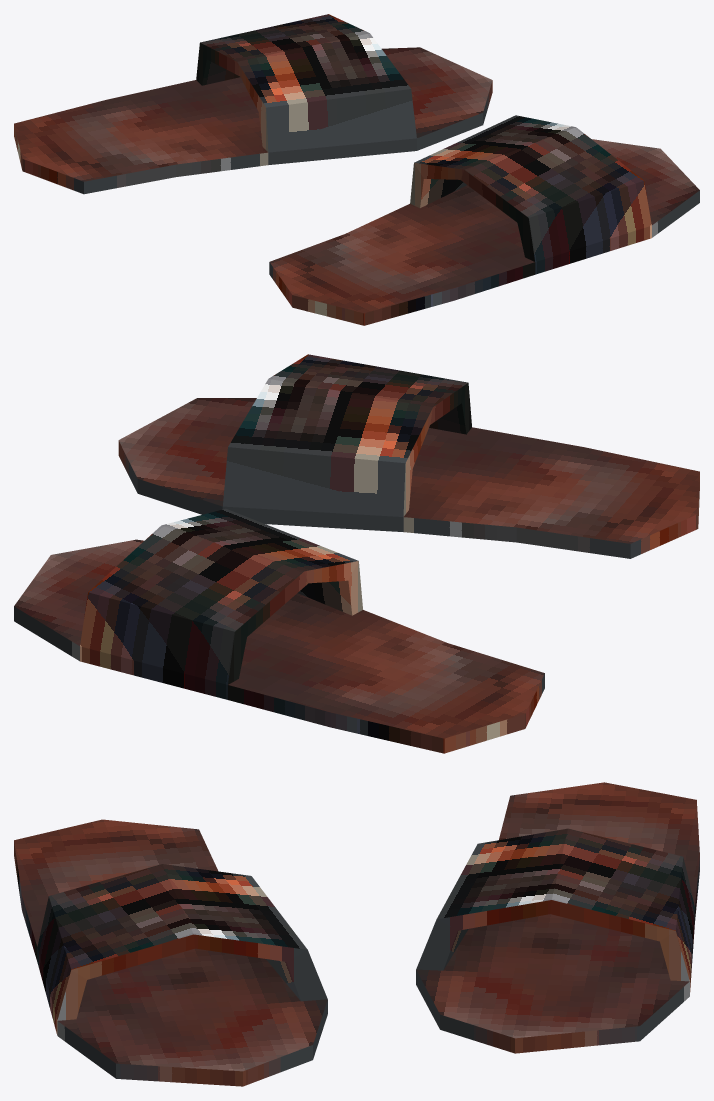
File: pile-sandal.glb
The picture shows the model from 3 angles, top to bottom: view 1: azimuth 30°, elevation 25°; view 2: azimuth 150°, elevation 25°; view 3: azimuth 270°, elevation 25°; orthographic projection. The views are drawn at different scales.
Visible parts, largest first — view 1: pile-sandal; view 2: pile-sandal; view 3: pile-sandal.
Boxes of the visible parts, x1,y1,x2,y2 form: pile-sandal: [14, 14, 699, 325]; pile-sandal: [14, 354, 699, 753]; pile-sandal: [14, 782, 699, 1086].
Bounding box in the file's own units: 0.639 × 0.093 × 0.641.
Materials: 1 (1 with a texture image).
